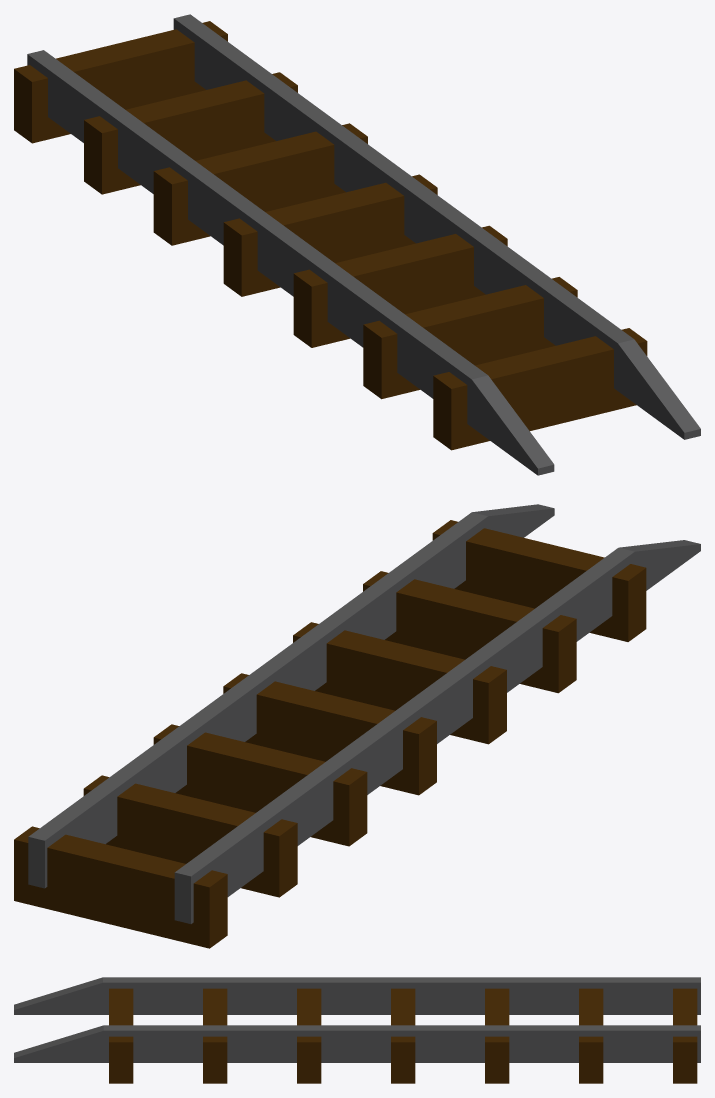
The model's file is Rails.fbx.
3 views of the same model, one above another, from view 1: azimuth 30°, elevation 25°; view 2: azimuth 150°, elevation 25°; view 3: azimuth 270°, elevation 25° (orthographic). The views are drawn at different scales.
Parts seen in each view (by area): view 1: Cube.043; view 2: Cube.043; view 3: Cube.043.
Part boxes in pixels (x1,y1,x2,y2): Cube.043: (14, 14, 700, 475); Cube.043: (14, 504, 700, 948); Cube.043: (14, 977, 700, 1083).
Bounding box in the file's own units: 162 × 55.53 × 731.
